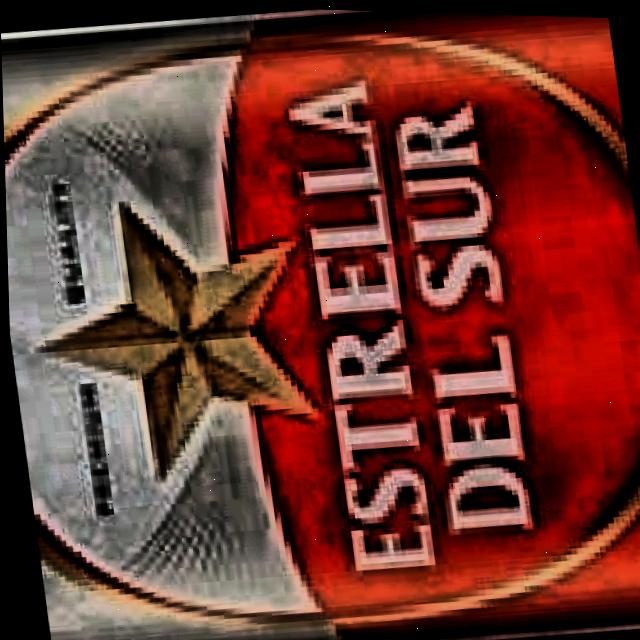metal: (1, 8, 640, 640)
